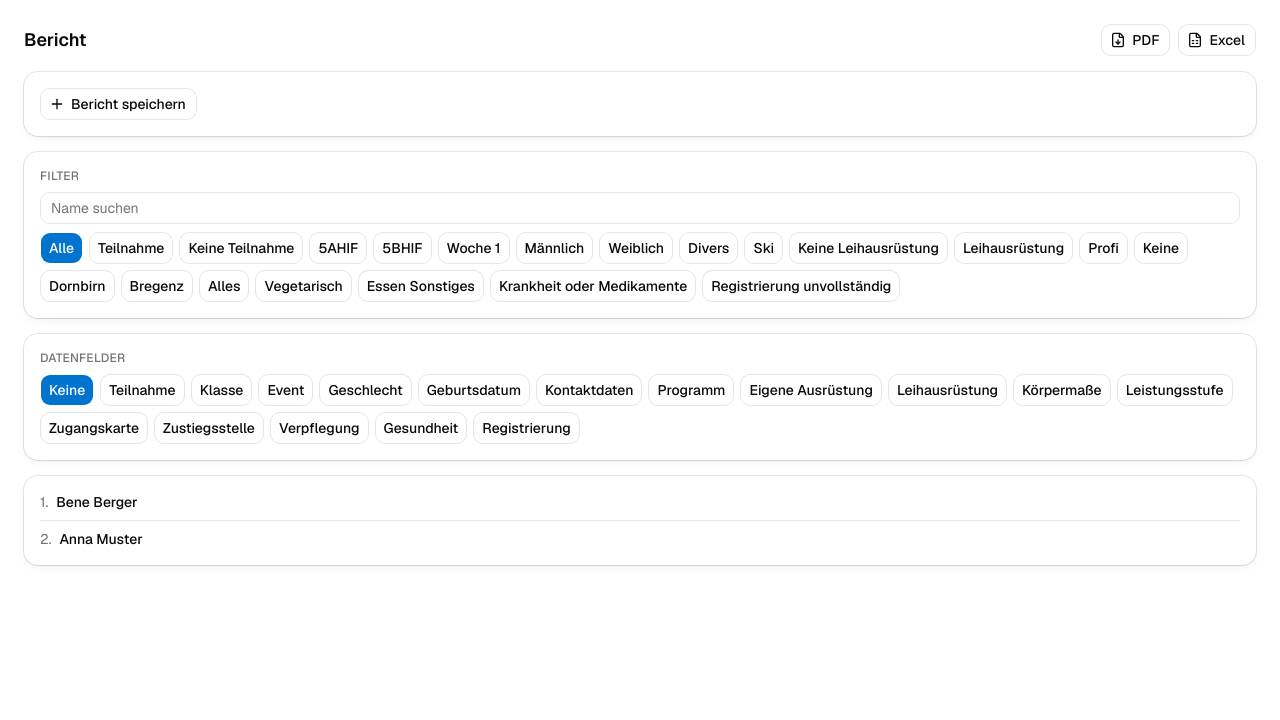
Scenario: ReportView › filters by name the way the assignment dialog does
Type "berg" into the field named "Bericht: Name" at coordinates (640, 208), box [40,192,1240,224]
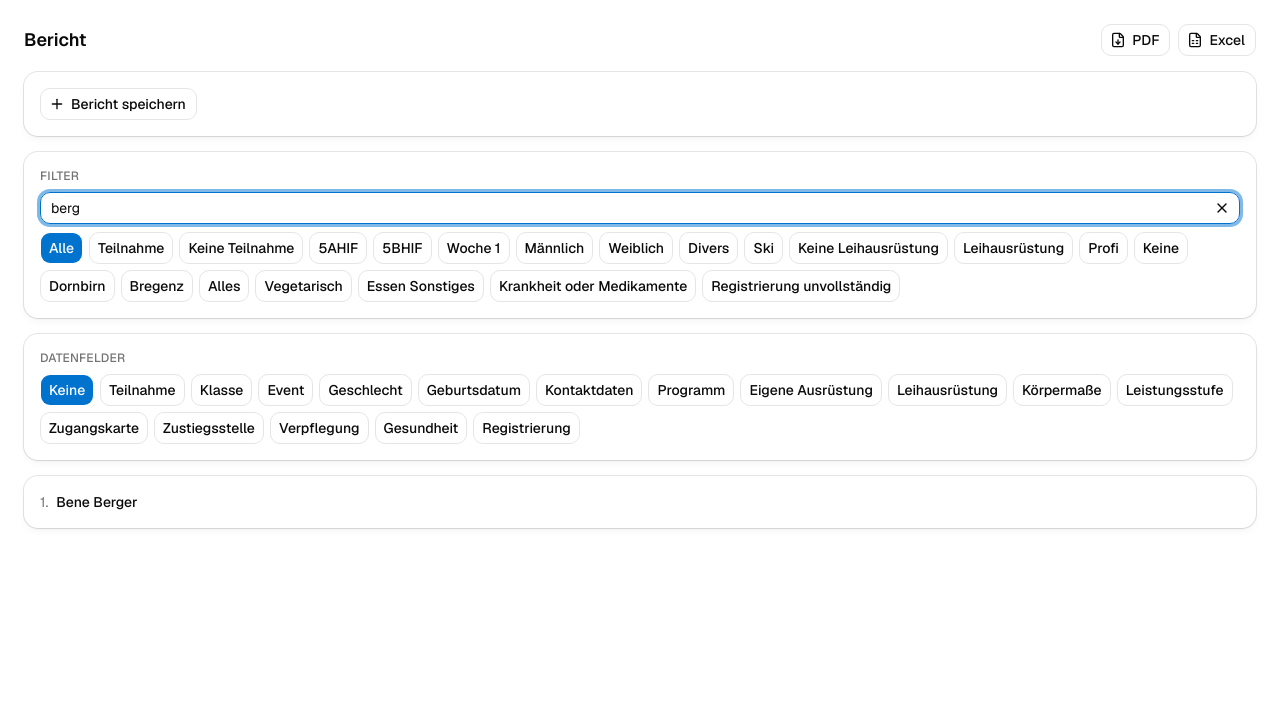
Check: the number of list items is 1, box [40,493,138,511]
